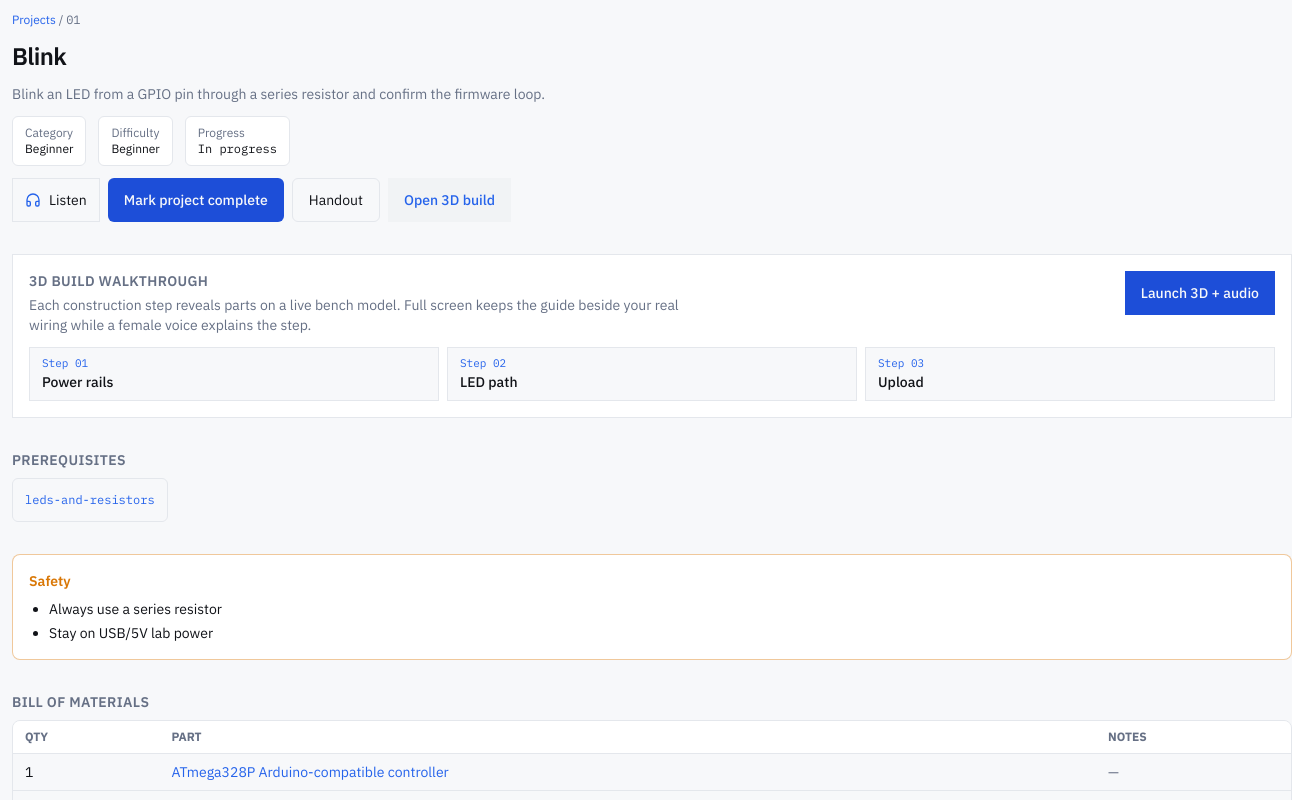
Test: Projects UI › renders project detail with BOM and completion
The width and height of the screenshot is (1292, 800).
Expected: the heading "Blink" is shown, [12,40,66,72]
Click the button "Mark project complete" at (196, 200), box [108,178,284,222]
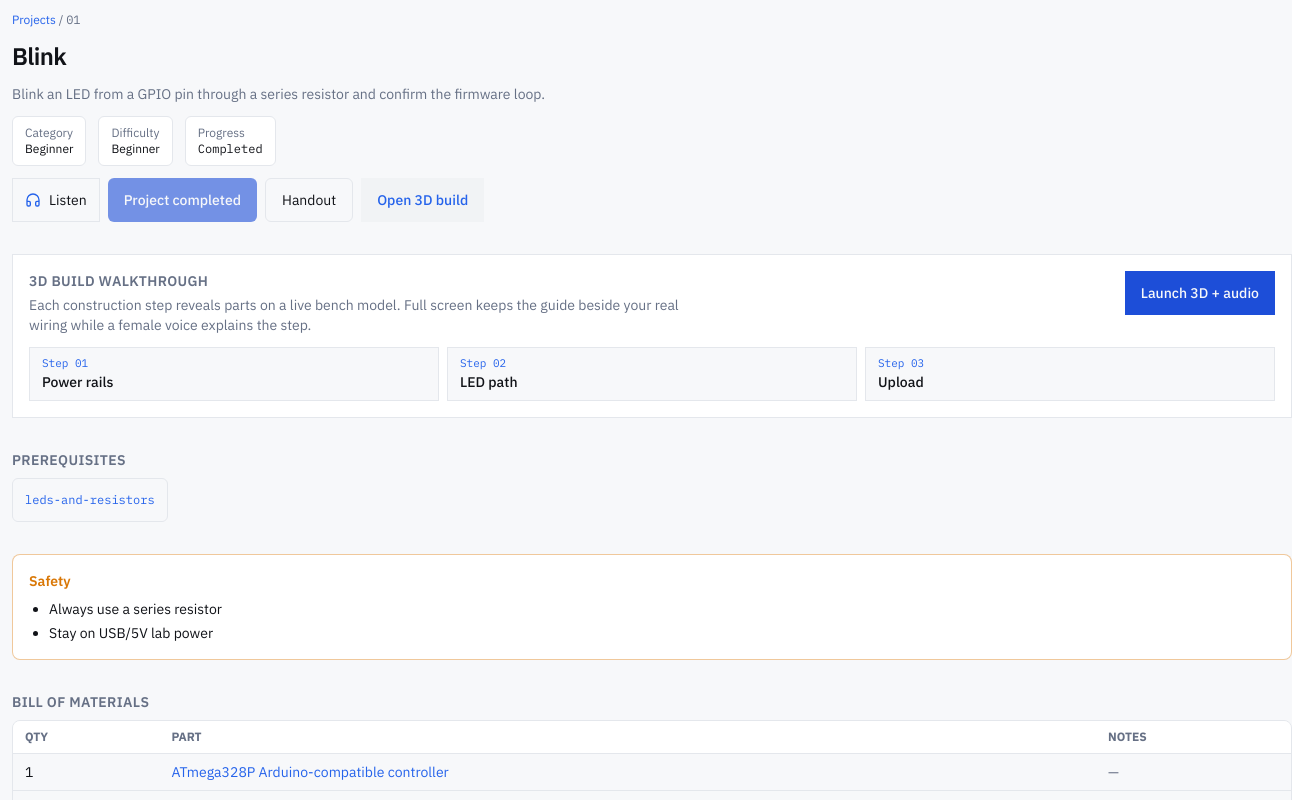
Expected: the button "Project completed" is disabled, [108,178,257,222]
